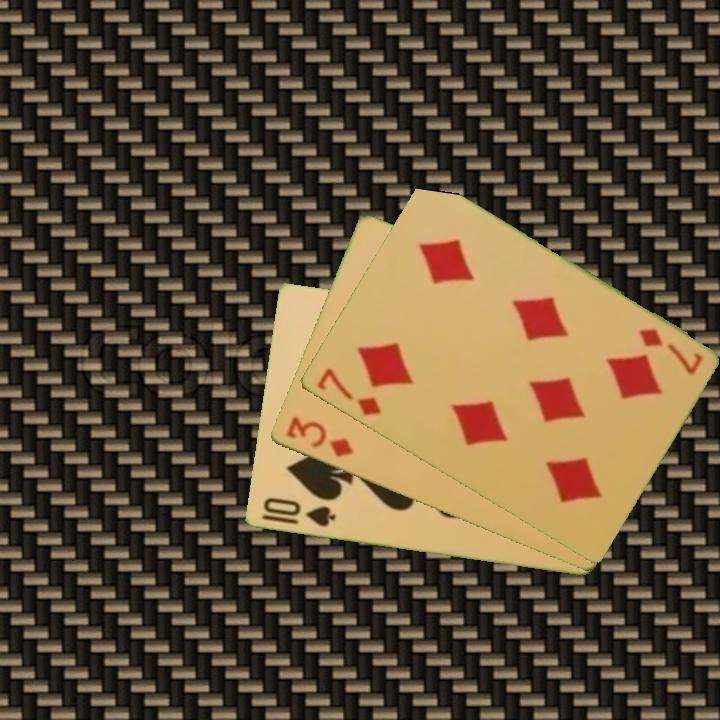10s: (259, 494, 338, 530)
3d: (282, 413, 357, 460)
7d: (313, 365, 384, 419), (634, 325, 705, 378)
